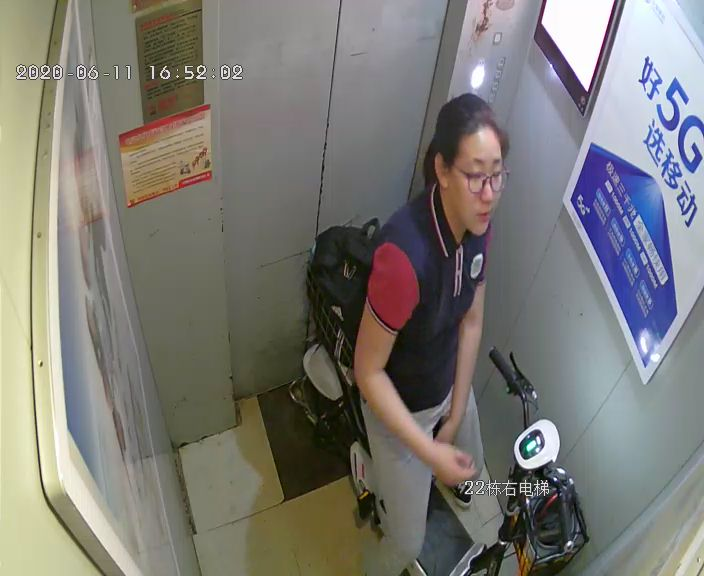Electric-bicycle: (301, 218, 590, 572)
